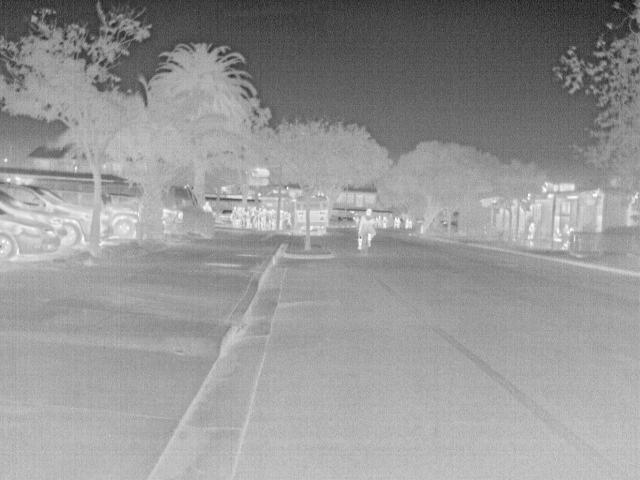car: (2, 183, 95, 248), (1, 204, 63, 262), (105, 204, 140, 238), (218, 208, 235, 223)
person: (356, 207, 378, 250), (526, 219, 538, 240), (201, 198, 214, 212), (553, 228, 566, 242)
